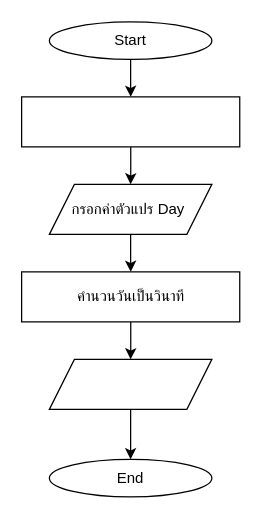
Image size: 263x519. Some labels were removed from this diagram. The centre of each missing label's shape, as x and y in pixels:
"กำหนดตัวแปร Day" goes at (x=130, y=121).
"แสดงค่า" goes at (x=130, y=383).
